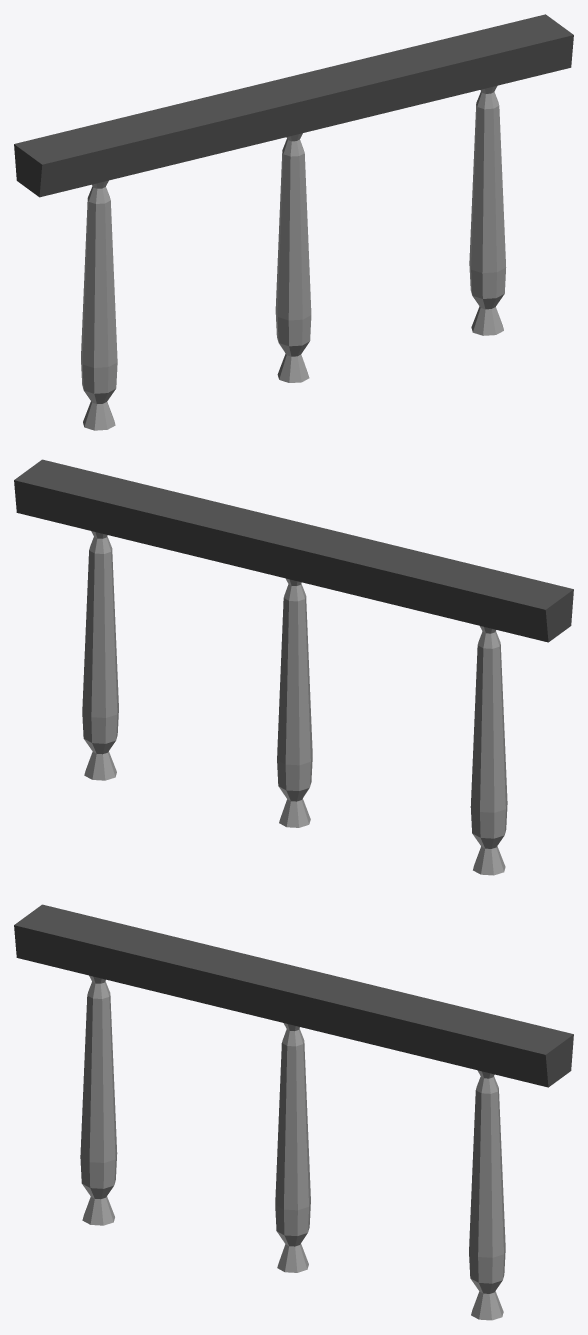
File: Railing.fbx
3 renders of one model, top to bottom at view 1: azimuth 30°, elevation 25°; view 2: azimuth 150°, elevation 25°; view 3: azimuth 330°, elevation 25°, orthographic.
Parts seen in each view (by area): view 1: Railing; view 2: Railing; view 3: Railing.
Part boxes in pixels (x1,y1,x2,y2): Railing: [14, 14, 573, 430]; Railing: [14, 459, 573, 875]; Railing: [14, 904, 573, 1320].
Bounding box in the file's own units: 200 × 103 × 18.42.
